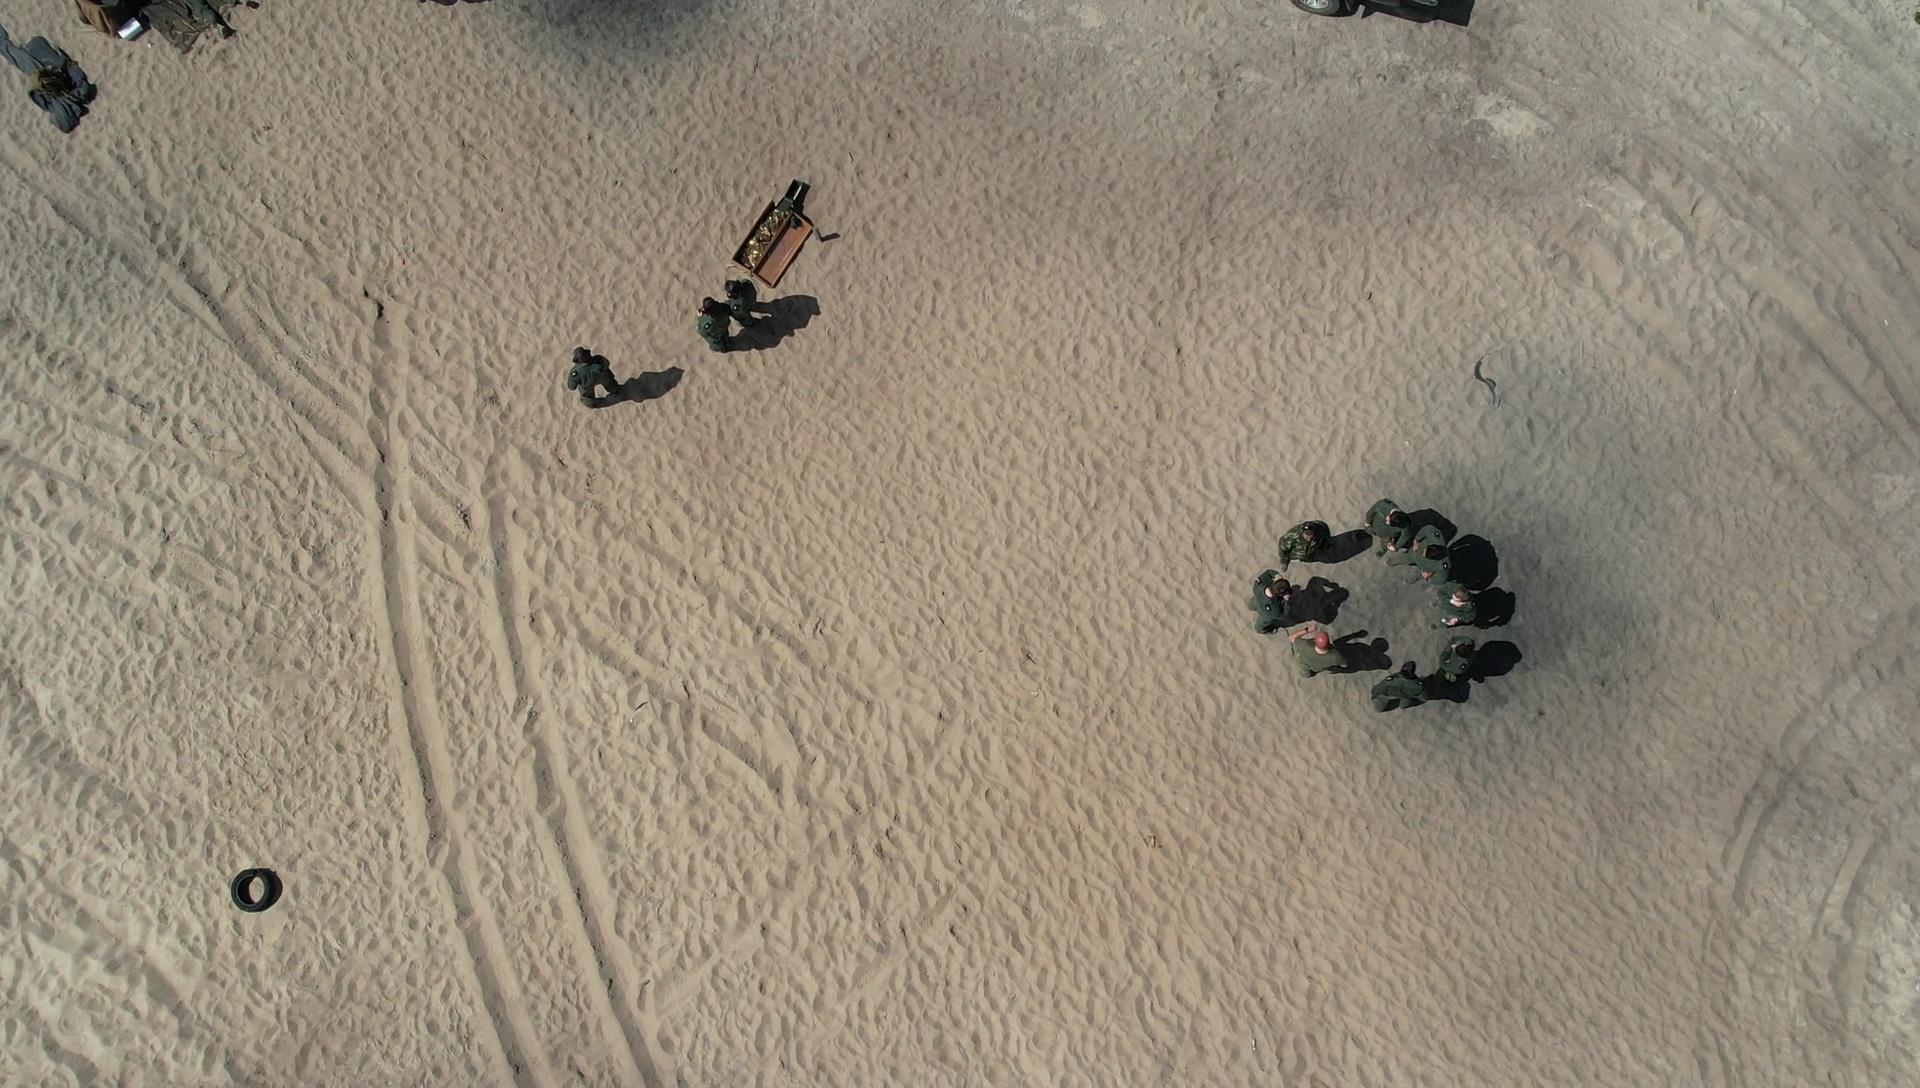Soldier: (1269, 510, 1360, 580), (1244, 562, 1312, 644), (1349, 487, 1422, 560), (1420, 630, 1498, 696), (1295, 620, 1358, 696), (558, 344, 626, 411), (1367, 651, 1429, 723), (688, 284, 740, 357), (721, 277, 775, 346), (1403, 516, 1451, 584), (1423, 578, 1480, 632)
